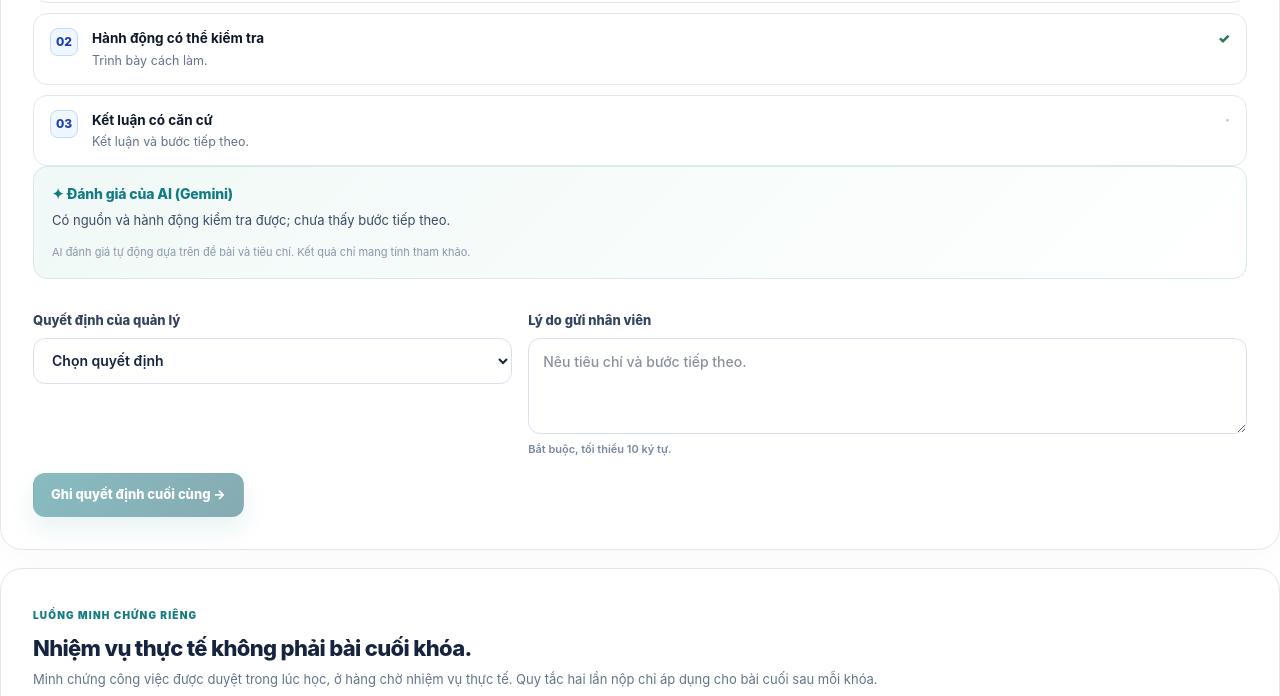
PulseFinalReviewsPage (MG-13, mock #/review) › warns that a second NOT_YET raises the support flag
The image size is (1280, 696).
(page scrolled)
Step 1. Select "Chưa đạt · cần sửa" in the dropdown labelled "Quyết định của quản lý" → (273, 361), box [33, 338, 512, 384]
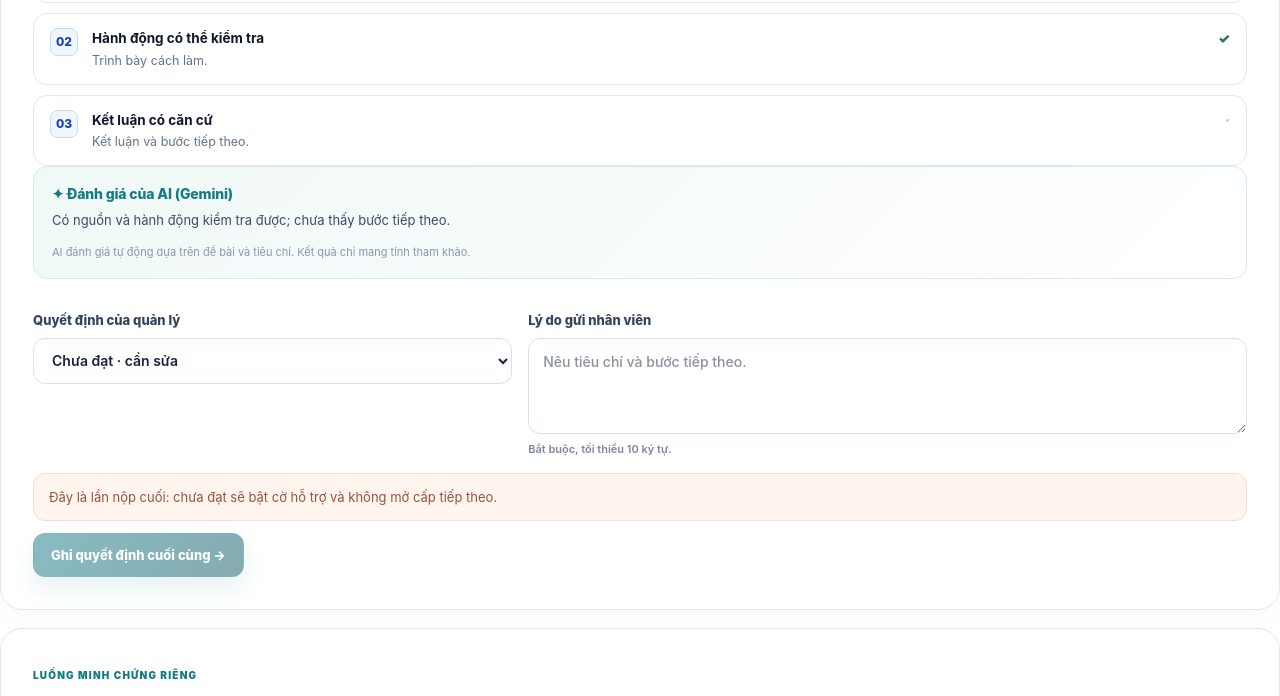
Now the text "Đây là lần nộp cuối: chưa đạt sẽ bật cờ hỗ trợ và không mở cấp tiếp theo." is shown, box [33, 473, 1247, 521]
